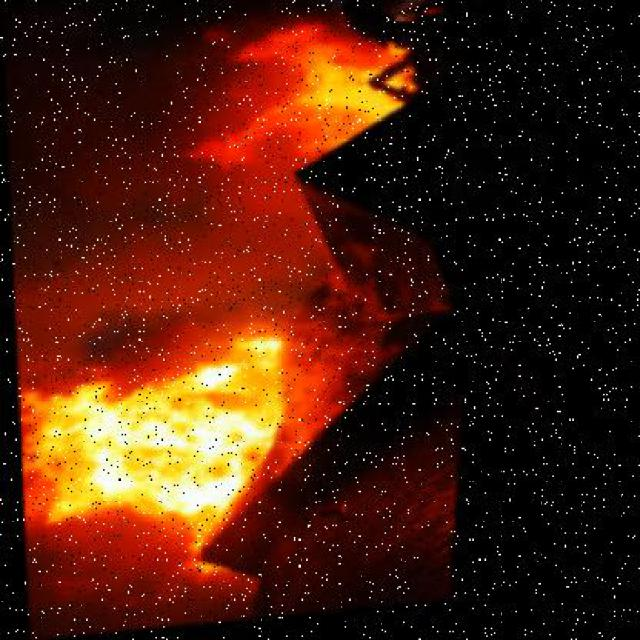fire: (14, 324, 280, 558), (170, 1, 431, 197)
